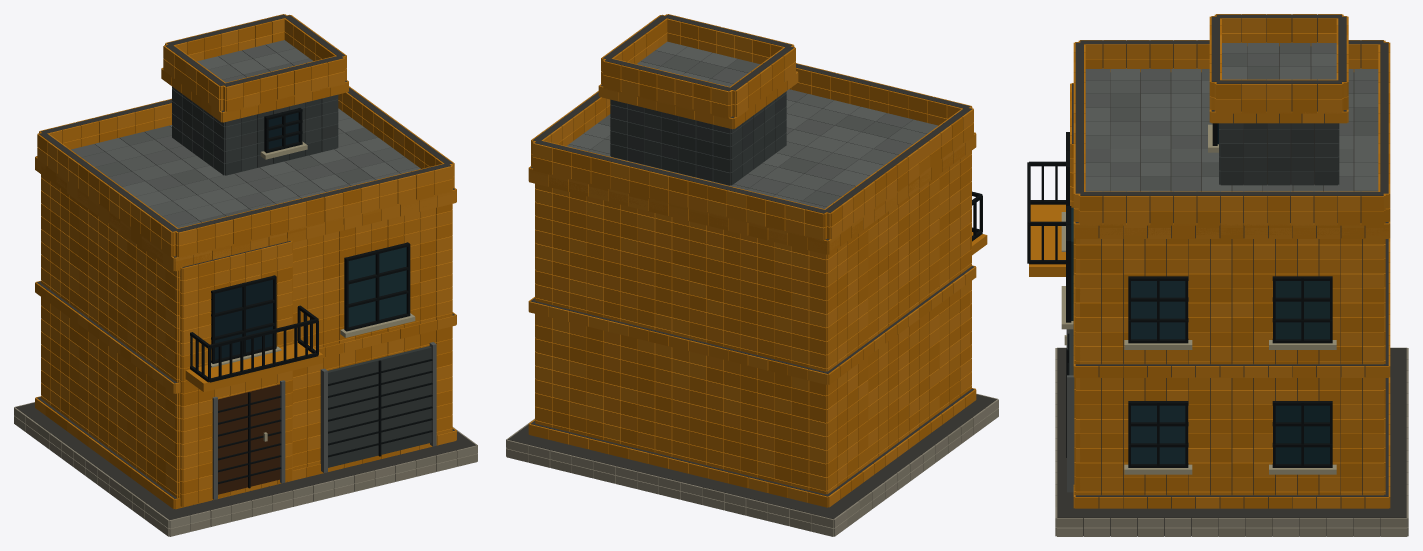
File: SM_Mapa_046.fbx
3 renders of one model, left to right at view 1: azimuth 30°, elevation 25°; view 2: azimuth 150°, elevation 25°; view 3: azimuth 270°, elevation 25°, orthographic. The views are drawn at different scales.
Parts seen in each view (by area): view 1: SM_Mapa_046; view 2: SM_Mapa_046; view 3: SM_Mapa_046.
Boxes of the visible parts, <box> form: SM_Mapa_046: <box>14,14,477,536</box>; SM_Mapa_046: <box>506,14,998,536</box>; SM_Mapa_046: <box>1027,14,1408,536</box>.
Size of the model in its own units: 8 by 7.53 by 9.13.
